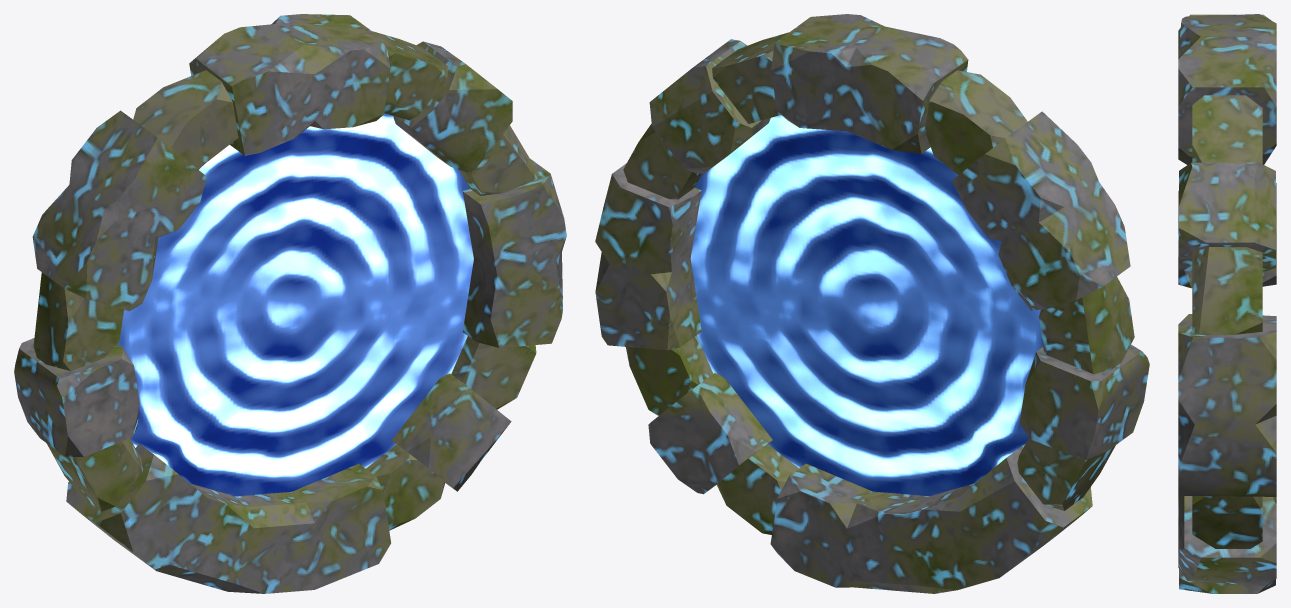
File: portalcentered.fbx
3 views of the same model, side by side, from view 1: azimuth 30°, elevation 25°; view 2: azimuth 150°, elevation 25°; view 3: azimuth 270°, elevation 25° (orthographic).
Visible parts, largest first — view 1: BrickLarge_low, PortalSurface_low, BrickSmall_low; view 2: BrickLarge_low, PortalSurface_low, BrickSmall_low; view 3: BrickLarge_low, BrickSmall_low.
Boxes of the visible parts, box(x1,y1,x2,y2) form: BrickLarge_low: box(14, 14, 566, 593); PortalSurface_low: box(117, 113, 473, 496); BrickSmall_low: box(33, 31, 539, 530); BrickLarge_low: box(595, 14, 1149, 593); PortalSurface_low: box(690, 115, 1042, 496); BrickSmall_low: box(623, 32, 1134, 534); BrickLarge_low: box(1178, 14, 1276, 593); BrickSmall_low: box(1192, 95, 1262, 548).
Size of the model in its own units: 266 by 268 by 44.99.
